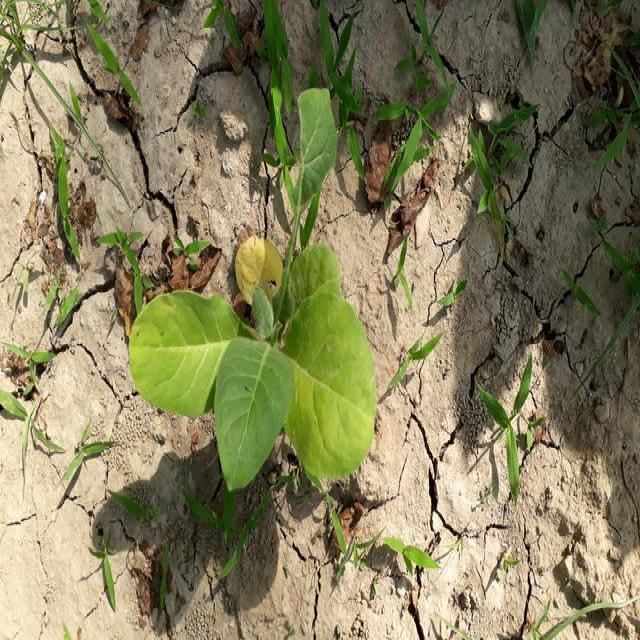crop: (135, 81, 391, 492)
